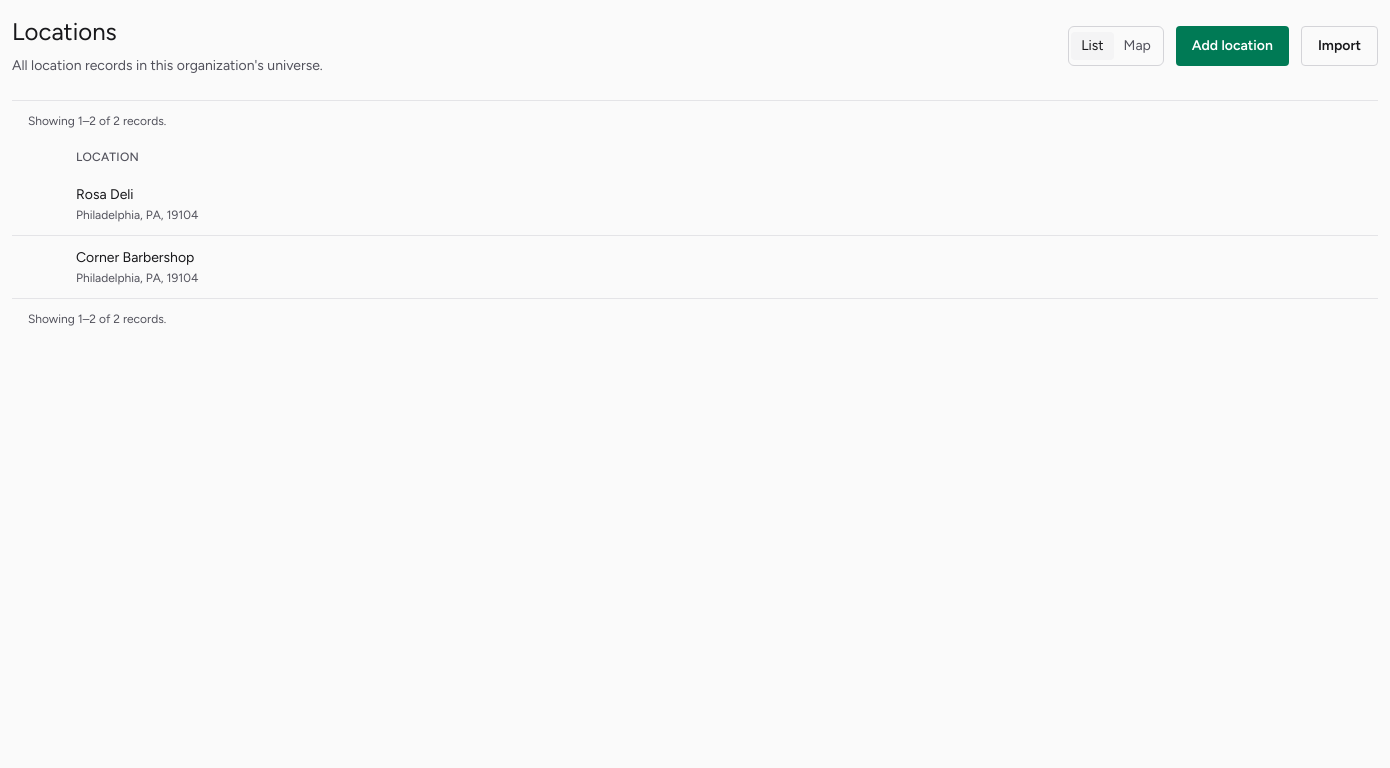
Test: shows the form once a pin is dropped
The width and height of the screenshot is (1390, 768).
Step 1. Click the button "Add location" → (1232, 46), box [1176, 26, 1289, 66]
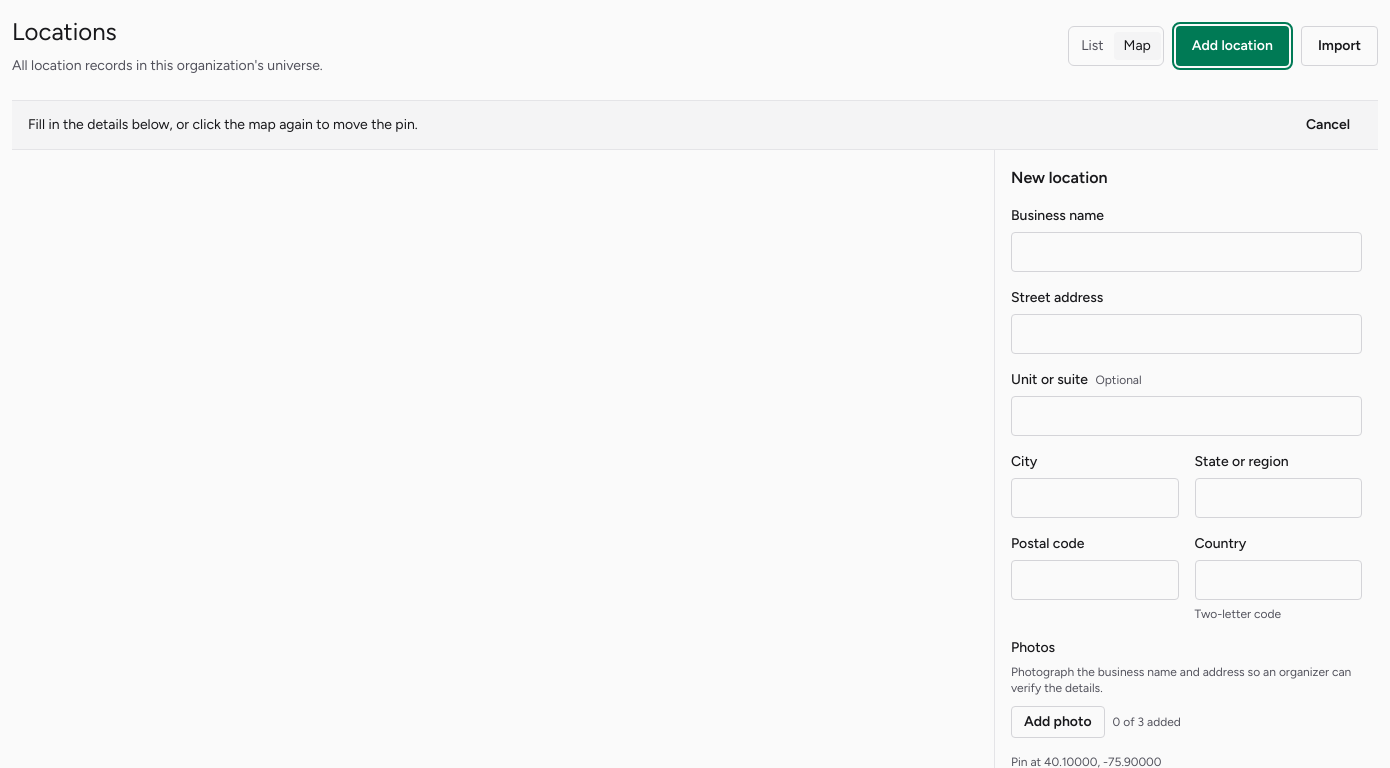
Expected: the field labelled "Business name" is shown, [1011, 232, 1362, 272]
